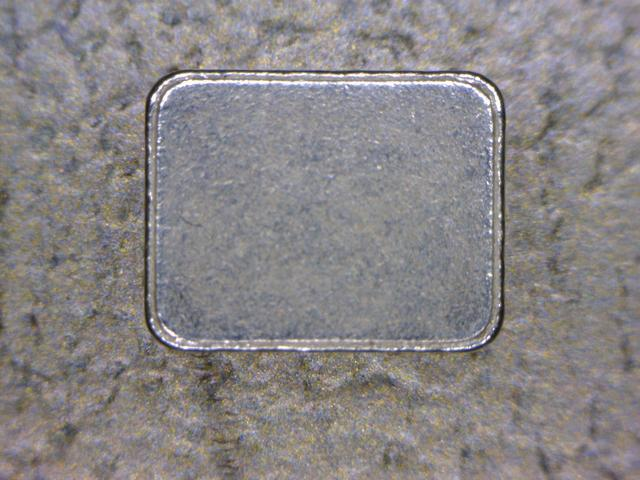nok: (143, 67, 511, 355)
